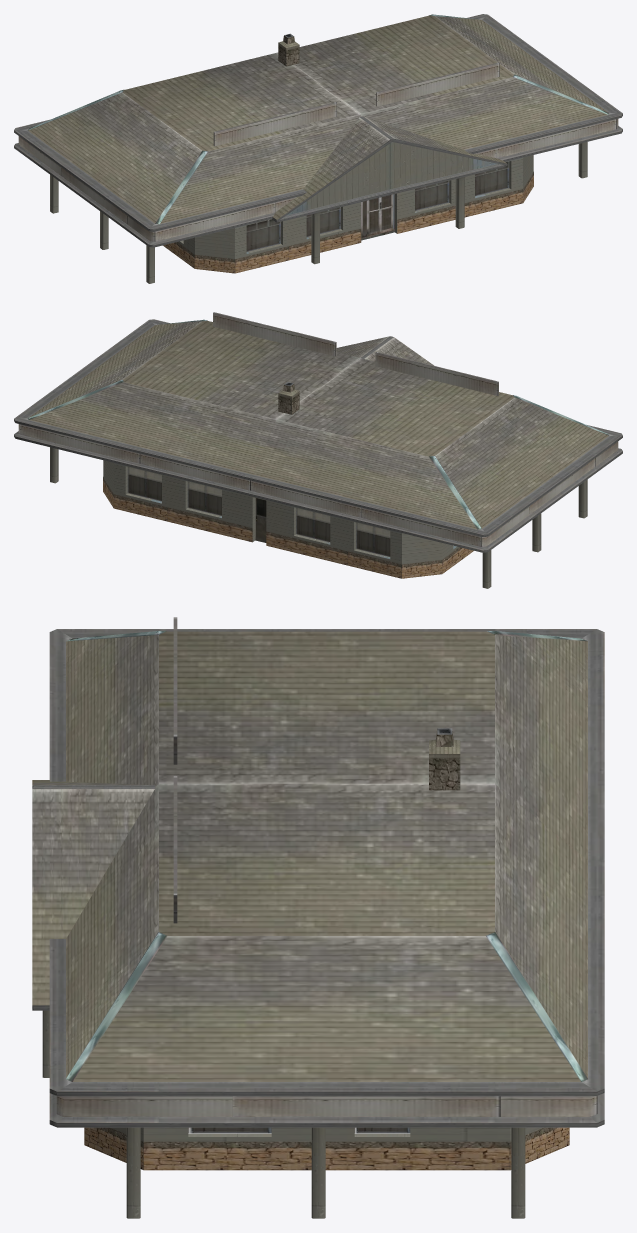
Rendered from rural-wood-4.lod0.glb.
3 views of the same model, one above another, from view 1: azimuth 30°, elevation 25°; view 2: azimuth 150°, elevation 25°; view 3: azimuth 270°, elevation 25° (orthographic). The views are drawn at different scales.
Parts seen in each view (by area): view 1: Rural_WoodenBuilding_4_Rural_Housetrim_1_0, Rural_WoodenBuilding_4_Rural_Facade_FLR_2_0, Rural_WoodenBuilding_4_Rural_Walltrim_1_0; view 2: Rural_WoodenBuilding_4_Rural_Housetrim_1_0, Rural_WoodenBuilding_4_Rural_Facade_FLR_2_0, Rural_WoodenBuilding_4_Rural_Walltrim_1_0; view 3: Rural_WoodenBuilding_4_Rural_Housetrim_1_0, Rural_WoodenBuilding_4_Rural_Facade_FLR_2_0, Rural_WoodenBuilding_4_Rural_Walltrim_1_0.
Part boxes in pixels (x1,y1,x2,y2): Rural_WoodenBuilding_4_Rural_Housetrim_1_0: (14,14,622,273); Rural_WoodenBuilding_4_Rural_Facade_FLR_2_0: (18,14,618,251); Rural_WoodenBuilding_4_Rural_Walltrim_1_0: (50,142,587,283); Rural_WoodenBuilding_4_Rural_Housetrim_1_0: (14,319,622,578); Rural_WoodenBuilding_4_Rural_Facade_FLR_2_0: (18,312,618,556); Rural_WoodenBuilding_4_Rural_Walltrim_1_0: (50,447,587,588); Rural_WoodenBuilding_4_Rural_Housetrim_1_0: (32,629,604,1170); Rural_WoodenBuilding_4_Rural_Facade_FLR_2_0: (56,617,597,1133); Rural_WoodenBuilding_4_Rural_Walltrim_1_0: (42,1010,542,1218).
Bounding box in the file's own units: 27.73 × 7.64 × 14.49.
3 materials, 3 textured.
